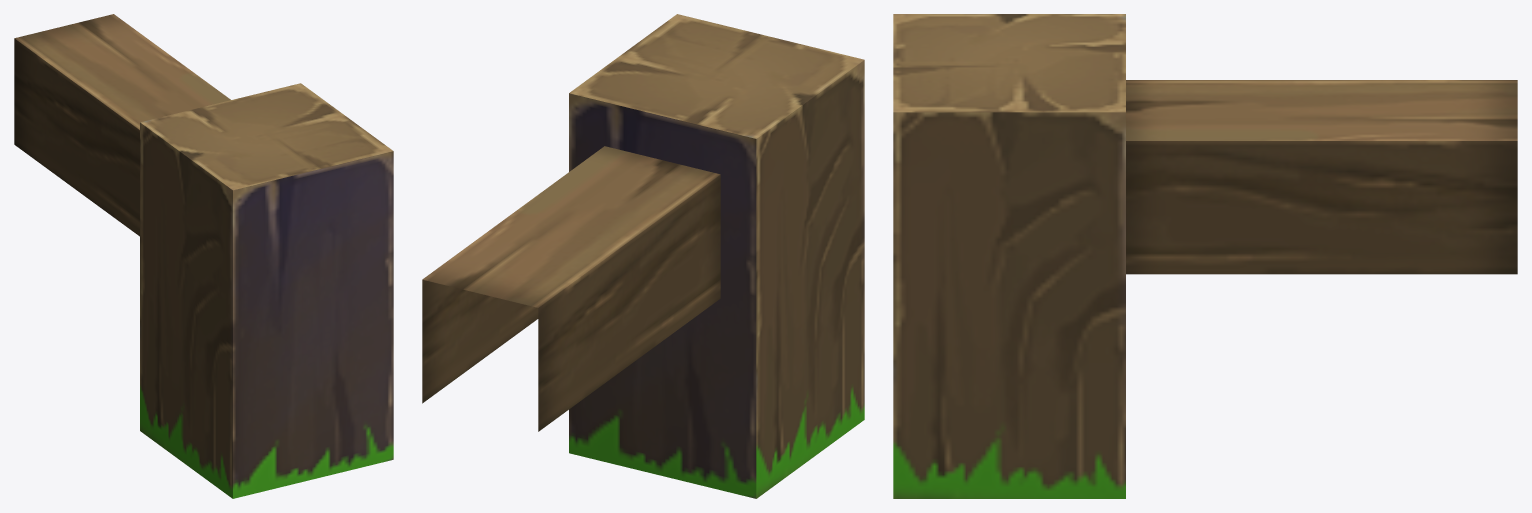
Rendered from scenes_town_stakes01a.FBX.
The picture shows the model from 3 angles, left to right: view 1: azimuth 30°, elevation 25°; view 2: azimuth 150°, elevation 25°; view 3: azimuth 270°, elevation 25°; orthographic projection. The views are drawn at different scales.
Parts seen in each view (by area): view 1: scenes_town_stakes01a; view 2: scenes_town_stakes01a; view 3: scenes_town_stakes01a.
Boxes of the visible parts, box(x1,y1,x2,y2) form: scenes_town_stakes01a: box(14, 14, 393, 498); scenes_town_stakes01a: box(422, 14, 864, 498); scenes_town_stakes01a: box(893, 14, 1517, 498).
Bounding box in the file's own units: 105 × 192 × 281.
